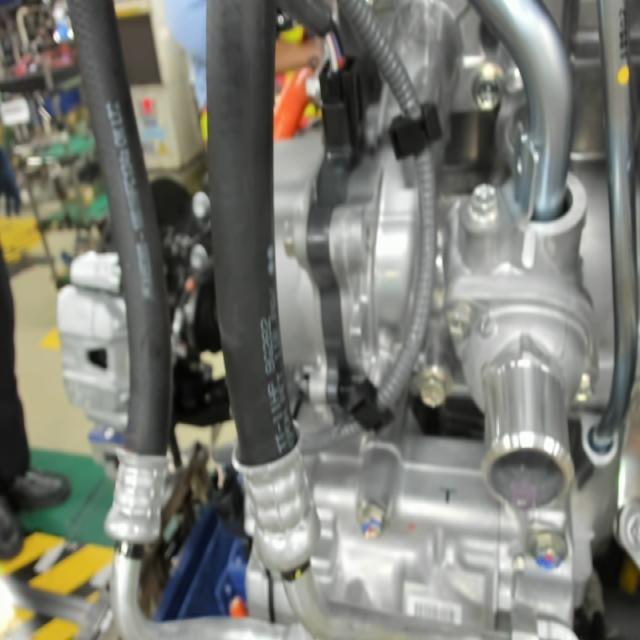Compressor-T: (434, 478, 462, 511)
